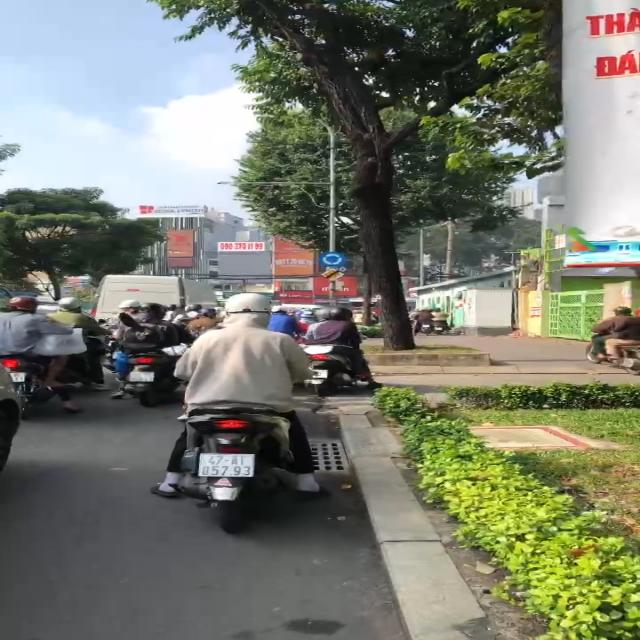Bien bao noi giao nhau chay theo vong xuyen: (316, 250, 349, 267)
